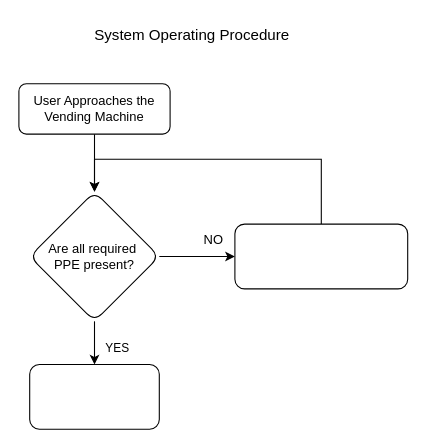
This 427x448 diagram has some shape labels left out. The centre of each missing label's shape, as x and y in pixels:
Indicacte Missing PPE so the User can press to dispense them: point 321,256
Open Gate: point 94,396
